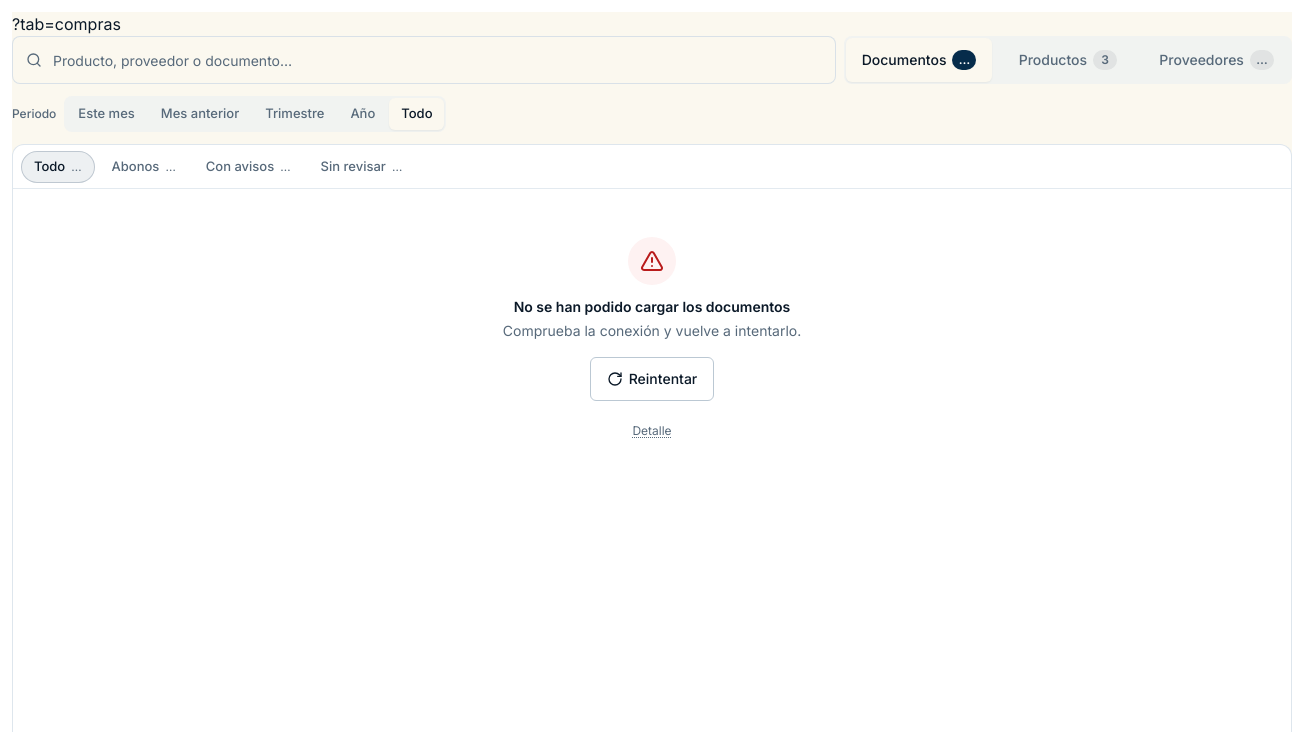
Test case: Compras · periodo, abonos y errores › si falla la carga, «Reintentar» vuelve a pedir los documentos
The width and height of the screenshot is (1304, 732).
Step 1. Click the button "Reintentar" → click(652, 379), box x1=590 y1=357 x2=714 y2=401
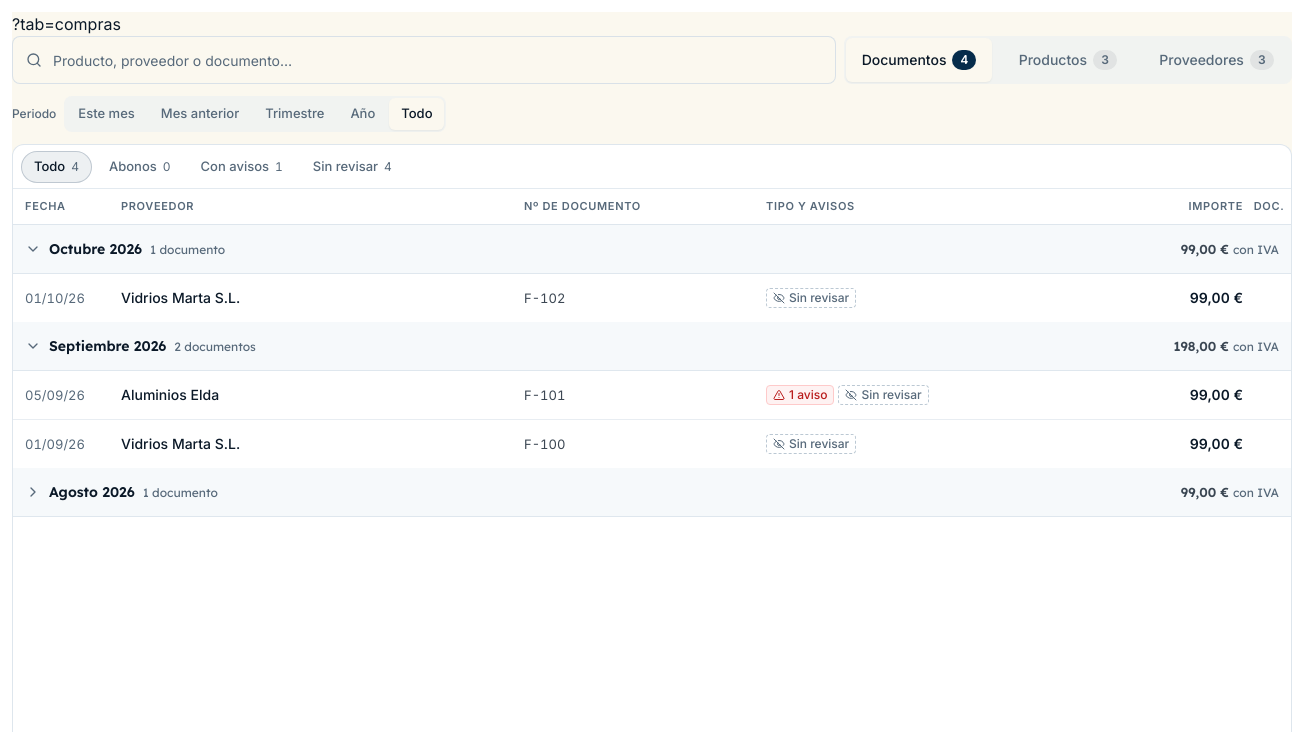
Check: the text "F-100" is shown, box x1=524 y1=436 x2=565 y2=452
